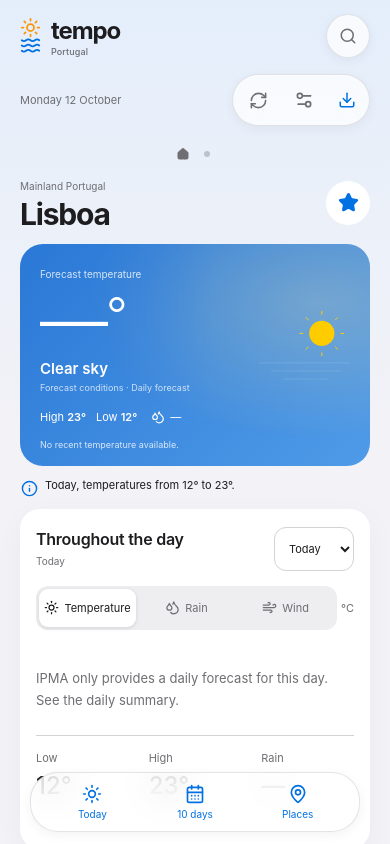
Test case: shows a prefetched locality immediately while its next network request is still pending
Expected: the heading "Clear sky" is shown, [40, 358, 108, 378]
Click the button named "View forecast for Porto" at [207, 154], box [195, 142, 219, 166]
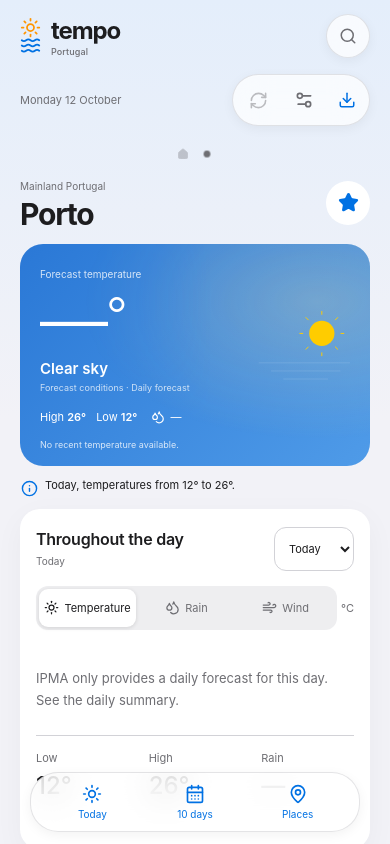
Expected: the heading "Porto" is shown, [20, 197, 106, 232]
Expected: the element with class "hero-range" shows "26°", [67, 410, 86, 424]
